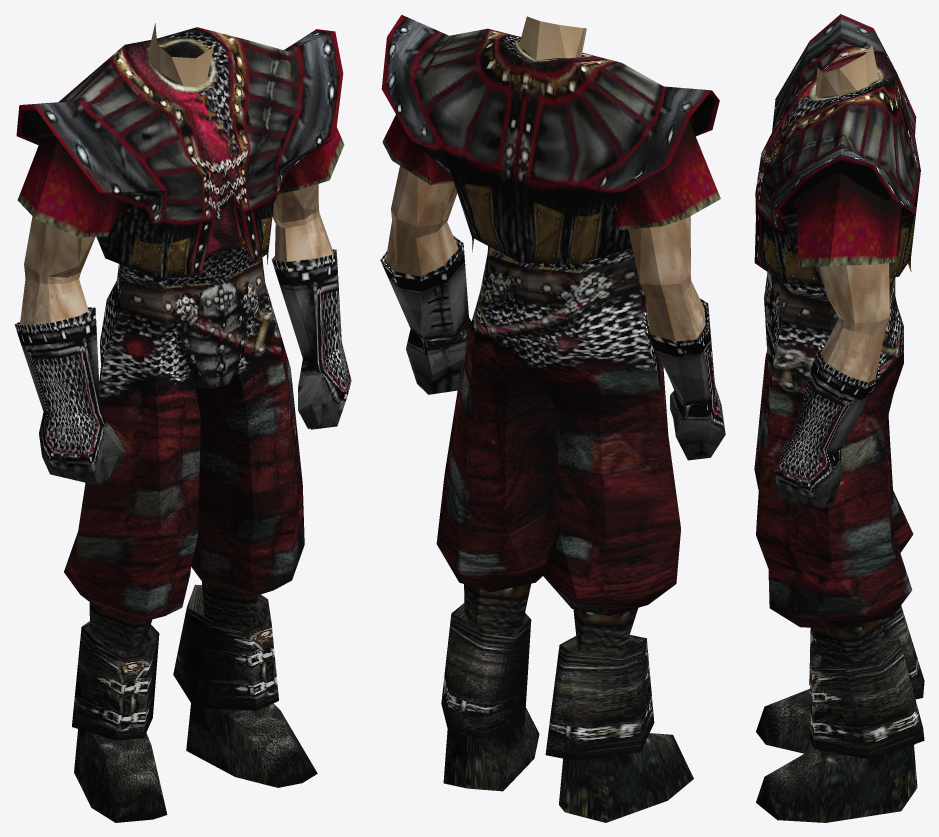
The model's file is Armor_Diego.glb.
3 renders of one model, left to right at view 1: azimuth 30°, elevation 25°; view 2: azimuth 150°, elevation 25°; view 3: azimuth 270°, elevation 25°, orthographic. The views are drawn at different scales.
Parts seen in each view (by area): view 1: Armor_Diegozm_Body; view 2: Armor_Diegozm_Body; view 3: Armor_Diegozm_Body.
Boxes of the visible parts, bbox=[...] form: Armor_Diegozm_Body: bbox=[14, 23, 351, 822]; Armor_Diegozm_Body: bbox=[380, 14, 725, 822]; Armor_Diegozm_Body: bbox=[754, 14, 924, 822].
Size of the model in its own units: 0.7133 by 1.65 by 0.3473.
Materials: 2 (2 with a texture image).
